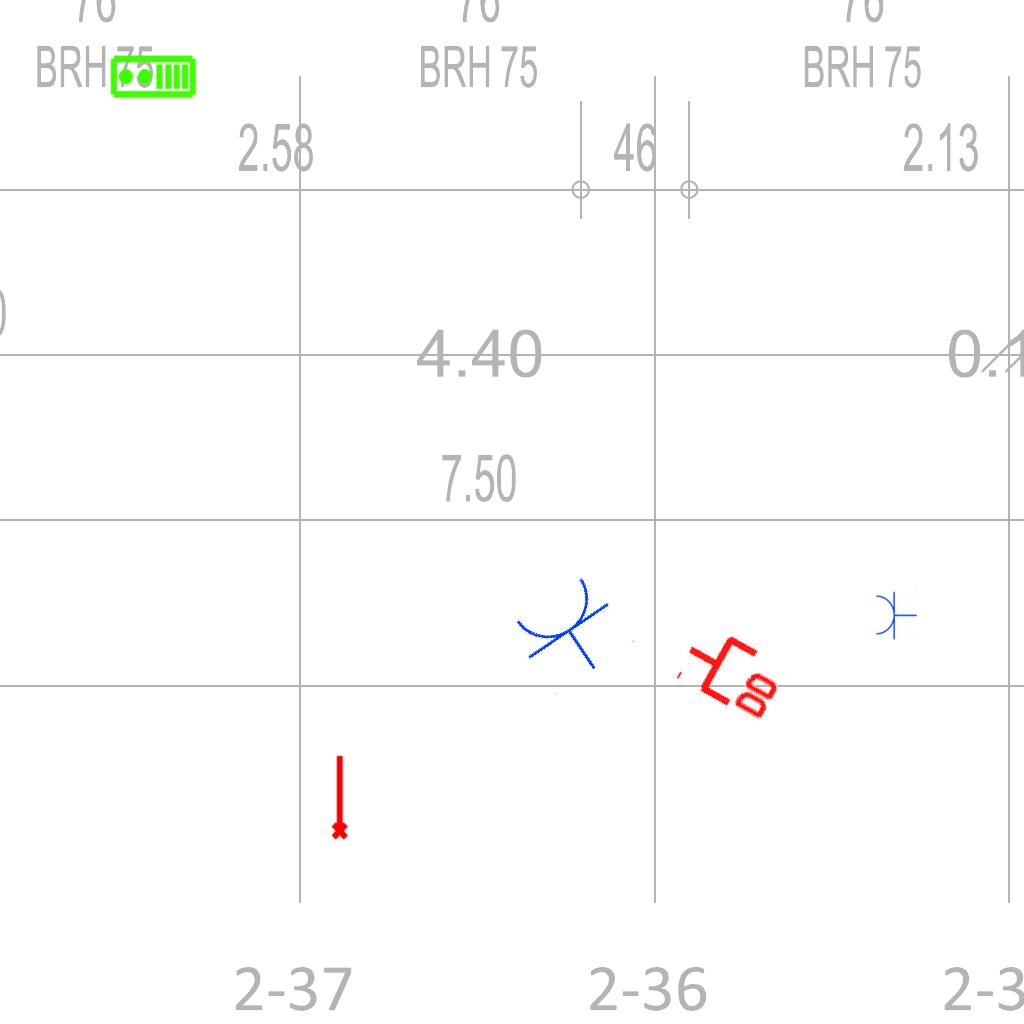ASR_Ansaugoeffnung: (327, 753, 350, 841)
Datenanschluss_zweifach: (671, 616, 796, 727)
Gegensprechanlage_mit_Video: (109, 54, 197, 101)
Schukosteckdose_einfach: (505, 568, 637, 697), (874, 590, 917, 640)
